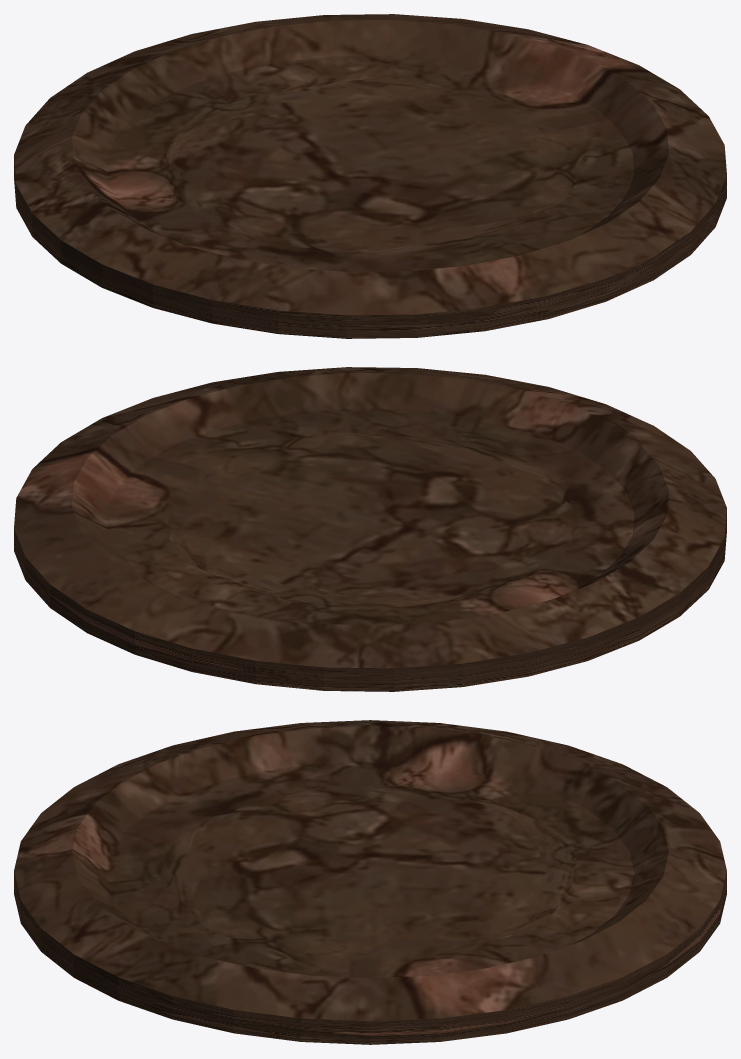
File: blank.fbx
The picture shows the model from 3 angles, top to bottom: view 1: azimuth 30°, elevation 25°; view 2: azimuth 150°, elevation 25°; view 3: azimuth 270°, elevation 25°; orthographic projection.
Parts seen in each view (by area): view 1: Cylinder; view 2: Cylinder; view 3: Cylinder.
Part boxes in pixels (x1,y1,x2,y2): Cylinder: (14,14,726,338); Cylinder: (14,367,726,691); Cylinder: (14,720,726,1044).
Size of the model in its own units: 20 by 1.3 by 20.
